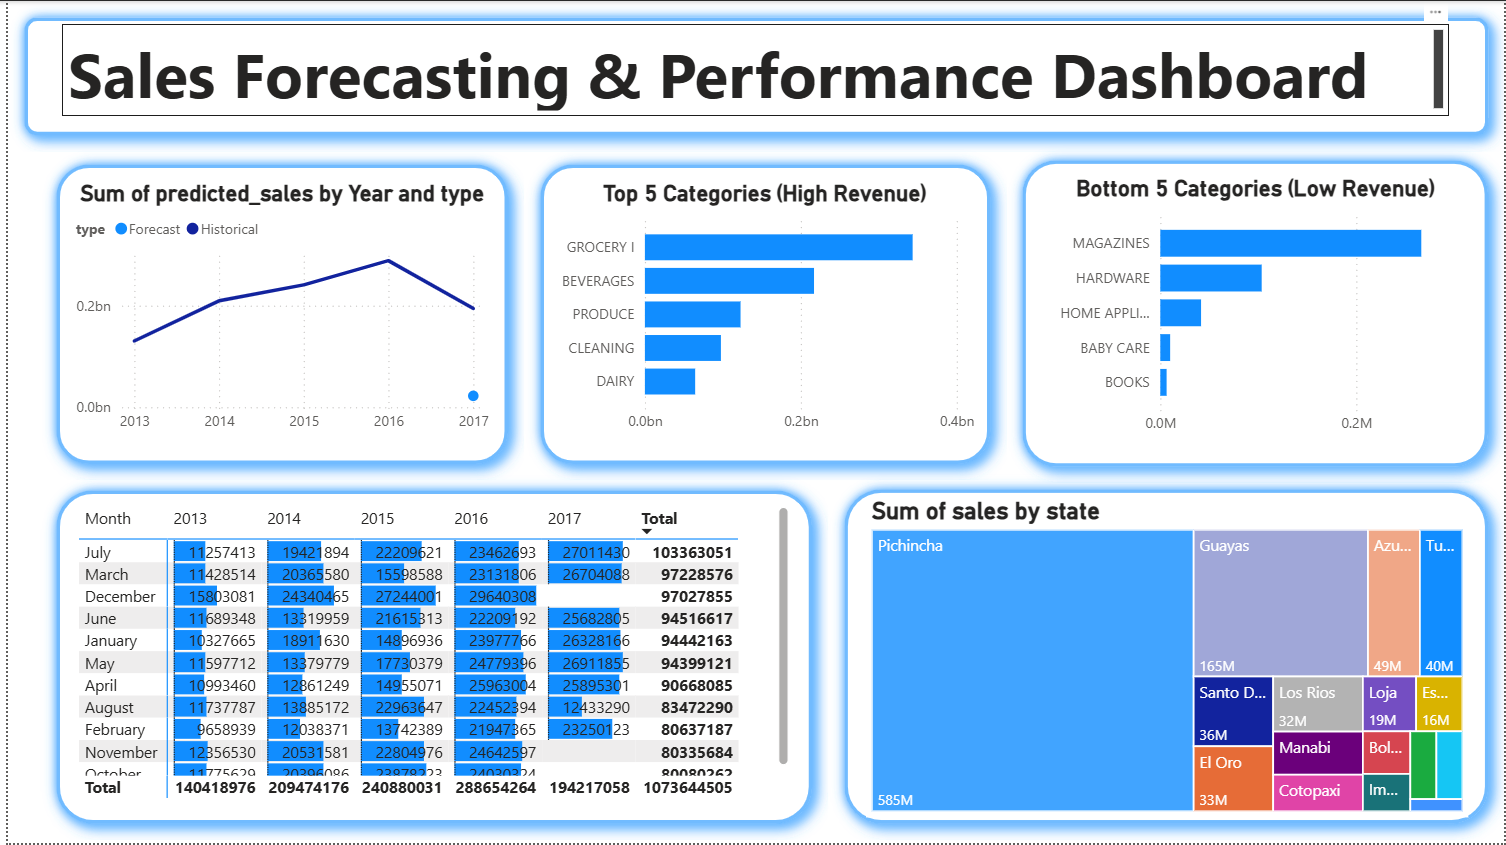

The page's visual inventory and layout, read from the dashboard file:
{"tool":"powerbi","page":{"name":"Page 1","canvas":[1280,720],"ordinal":0},"visuals":[{"type":"shape","box":[441.4,125.7,412.9,284.3],"z":0},{"type":"shape","box":[853.8,122.5,426.2,290],"z":1000},{"type":"shape","box":[701.2,403.8,578.8,313.8],"z":2000},{"type":"clusteredBarChart","title":"Top 5 Categories (High Revenue)","fields":{"Category":["historical_sales_granular.family"],"Y":["Sum(historical_sales_granular.sales)"]},"box":[463,152.7,368.6,224.7],"z":4000},{"type":"shape","box":[0,0,1280,128.8],"z":5000},{"type":"textbox","box":[46.2,20,1186.2,78.8],"z":6000},{"type":"shape","box":[27.1,404.3,674.3,312.9],"z":7000},{"type":"clusteredBarChart","title":"Bottom 5 Categories (Low Revenue)","fields":{"Category":["historical_sales_granular.family"],"Y":["Sum(historical_sales_granular.sales)"]},"box":[877.3,148.8,378.4,230.5],"z":8000},{"type":"shape","box":[27.1,125.7,414.3,284.3],"z":10000},{"type":"pivotTable","fields":{"Rows":["historical_sales_granular.date.Variation.Date Hierarchy.Month"],"Columns":["historical_sales_granular.date.Variation.Date Hierarchy.Year","historical_sales_granular.date.Variation.Date Hierarchy.Quarter","historical_sales_granular.date.Variation.Date Hierarchy.Month","historical_sales_granular.date.Variation.Date Hierarchy.Day"],"Values":["Sum(historical_sales_granular.sales)"]},"box":[55.7,427.1,617.1,258.6],"z":12500},{"type":"lineChart","fields":{"Category":["final_forecast_for_powerbi.date.Variation.Date Hierarchy.Year","final_forecast_for_powerbi.date.Variation.Date Hierarchy.Quarter","final_forecast_for_powerbi.date.Variation.Date Hierarchy.Month","final_forecast_for_powerbi.date.Variation.Date Hierarchy.Day"],"Y":["Sum(final_forecast_for_powerbi.predicted_sales)"],"Series":["final_forecast_for_powerbi.type"]},"box":[52.9,152.9,362.9,224.3],"z":13000},{"type":"treemap","fields":{"Group":["historical_sales_granular.state"],"Values":["Sum(historical_sales_granular.sales)"]},"box":[733.8,423.8,515,273.8],"z":13501}]}

Visuals, with their boxes in screenshot pixels (x1, y1, x2, y2), scaled from the page's 1280x720 canvas onto the 1506x845 screenshot:
shape: pyautogui.locateOnScreen(519, 148, 1005, 481)
shape: pyautogui.locateOnScreen(1005, 144, 1505, 484)
shape: pyautogui.locateOnScreen(825, 474, 1505, 842)
"Top 5 Categories (High Revenue)" clusteredBarChart: pyautogui.locateOnScreen(545, 179, 978, 443)
shape: pyautogui.locateOnScreen(0, 0, 1505, 151)
textbox: pyautogui.locateOnScreen(54, 23, 1450, 116)
shape: pyautogui.locateOnScreen(32, 474, 825, 842)
"Bottom 5 Categories (Low Revenue)" clusteredBarChart: pyautogui.locateOnScreen(1032, 175, 1477, 445)
shape: pyautogui.locateOnScreen(32, 148, 519, 481)
pivotTable - historical_sales_granular.date.Variation.Date Hierarchy.Month x historical_sales_granular.date.Variation.Date Hierarchy.Year: pyautogui.locateOnScreen(66, 501, 792, 805)
lineChart - final_forecast_for_powerbi.date.Variation.Date Hierarchy.Year x final_forecast_for_powerbi.date.Variation.Date Hierarchy.Quarter: pyautogui.locateOnScreen(62, 179, 489, 443)
treemap - historical_sales_granular.state x Sum(historical_sales_granular.sales): pyautogui.locateOnScreen(863, 497, 1469, 819)
